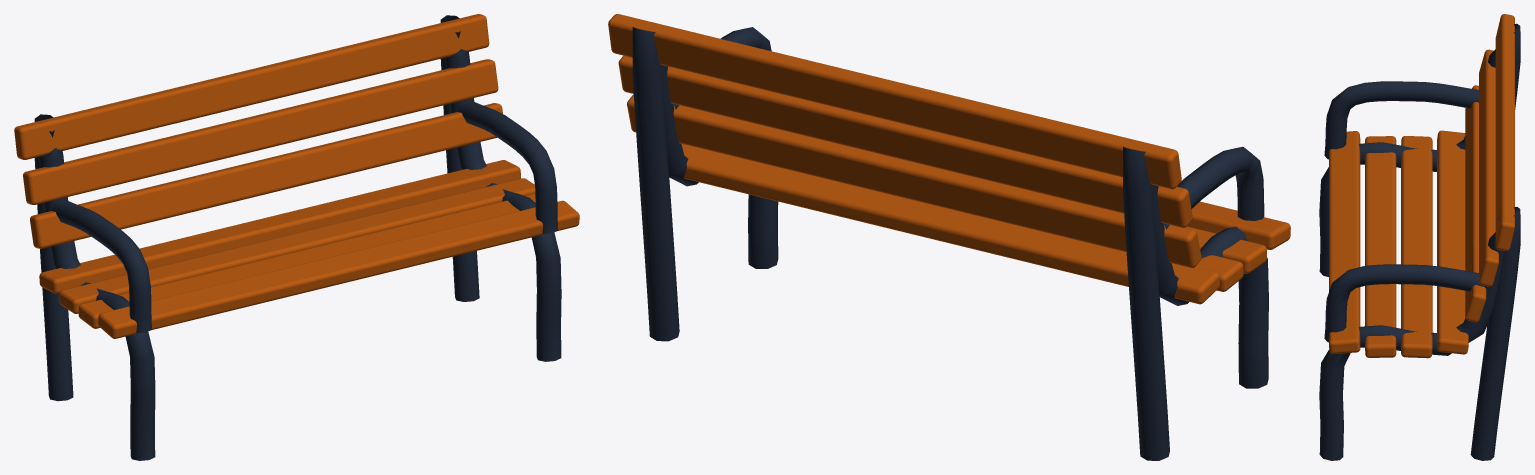
File: env-park-bench.glb
3 renders of one model, left to right at view 1: azimuth 30°, elevation 25°; view 2: azimuth 150°, elevation 25°; view 3: azimuth 270°, elevation 25°, orthographic. The views are drawn at different scales.
Parts seen in each view (by area): view 1: EnvParkBench; view 2: EnvParkBench; view 3: EnvParkBench.
Part boxes in pixels (x1,y1,x2,y2): EnvParkBench: (14,14,579,460); EnvParkBench: (608,14,1290,460); EnvParkBench: (1319,14,1520,460).
Bounding box in the file's own units: 1.52 × 0.834 × 0.6138.
